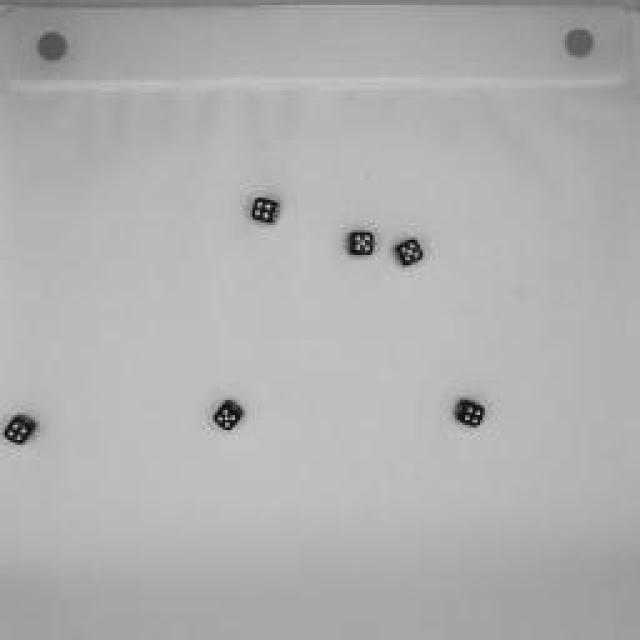dice_4: (2, 410, 42, 452), (452, 396, 488, 434), (248, 194, 282, 231)
dice_5: (392, 235, 430, 273), (212, 397, 248, 435), (345, 226, 380, 262)
